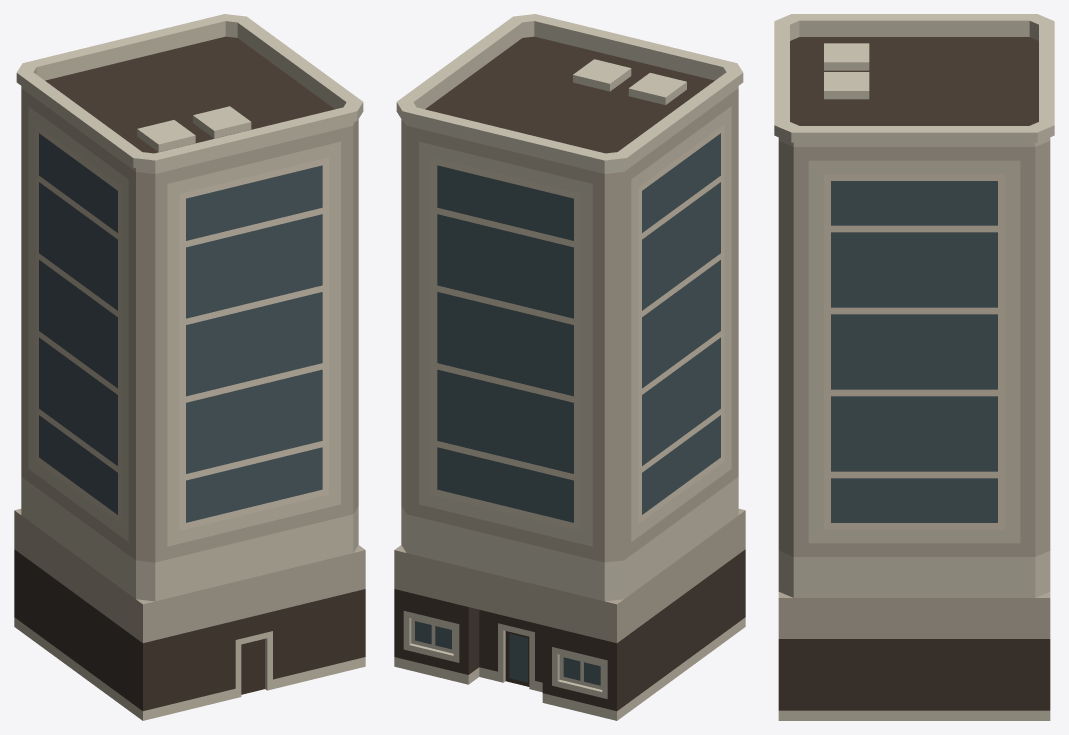
Rendered from cairo-tower-b.glb.
3 renders of one model, left to right at view 1: azimuth 30°, elevation 25°; view 2: azimuth 150°, elevation 25°; view 3: azimuth 270°, elevation 25°, orthographic. The views are drawn at different scales.
Visible parts, largest first — view 1: skyscraperA; view 2: skyscraperA; view 3: skyscraperA.
Boxes of the visible parts, x1,y1,x2,y2 form: skyscraperA: (14, 14, 365, 720); skyscraperA: (394, 14, 745, 720); skyscraperA: (774, 14, 1054, 720).
Bounding box in the file's own units: 1.24 × 2.88 × 1.24.
